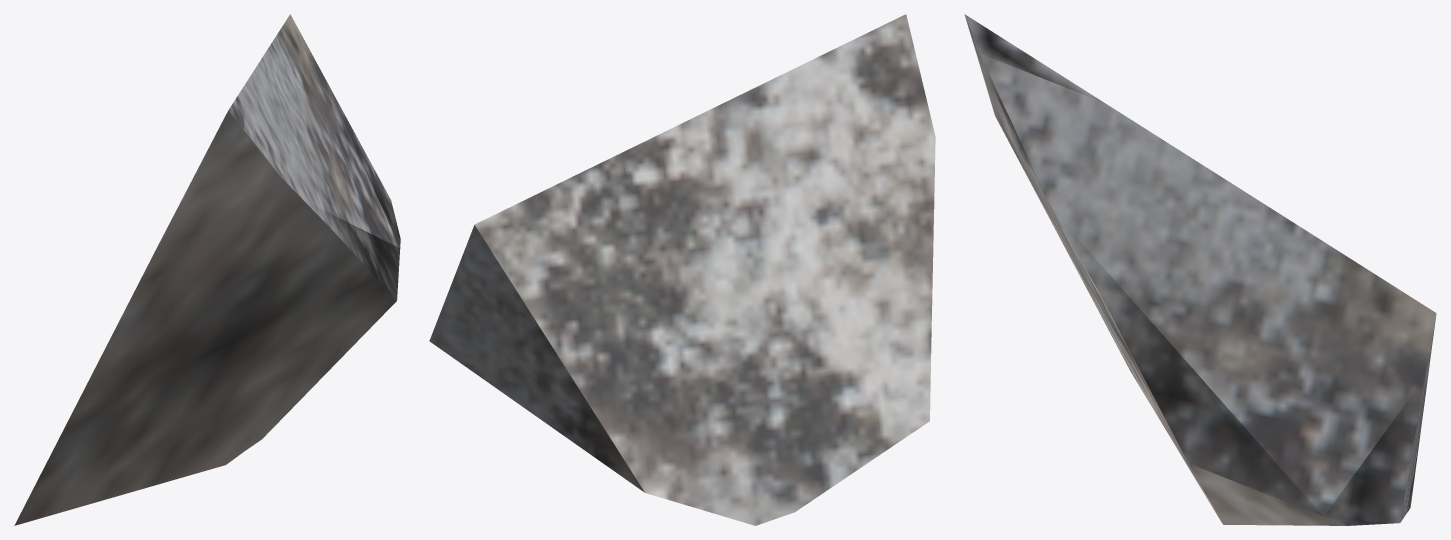
The model's file is Asteroid_Large_001_02_004_03_012.fbx.
3 views of the same model, side by side, from view 1: azimuth 30°, elevation 25°; view 2: azimuth 150°, elevation 25°; view 3: azimuth 270°, elevation 25° (orthographic). The views are drawn at different scales.
Visible parts, largest first — view 1: Asteroid_Large_001_02_004_03_012; view 2: Asteroid_Large_001_02_004_03_012; view 3: Asteroid_Large_001_02_004_03_012.
Part boxes in pixels (box(x1,y1,x2,y2)): Asteroid_Large_001_02_004_03_012: box(14, 14, 400, 525); Asteroid_Large_001_02_004_03_012: box(429, 14, 935, 525); Asteroid_Large_001_02_004_03_012: box(964, 14, 1436, 525).
Size of the model in its own units: 3.73 by 3.68 by 3.19.
